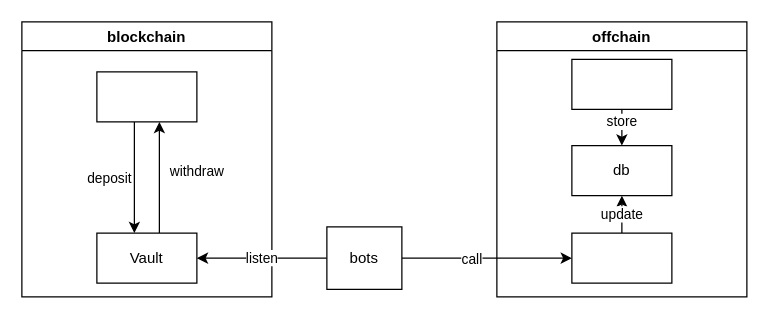
The diagram is 769 pixels wide and 319 high, and some of its shapes have lost their labels. Here are the shapes that lost their labels. From the top down, the centre of each, then its label:
(146,96): ERC
(621,83): Game
(621,257): API
